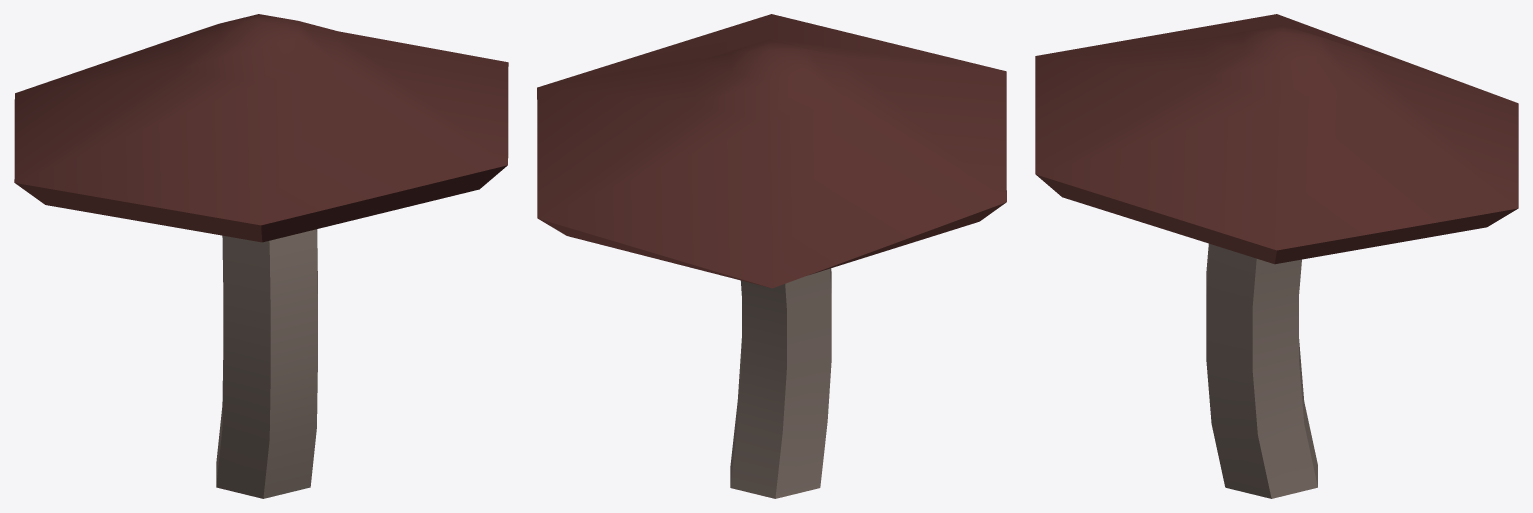
The model's file is MushroomRed1.fbx.
3 views of the same model, side by side, from view 1: azimuth 30°, elevation 25°; view 2: azimuth 150°, elevation 25°; view 3: azimuth 270°, elevation 25° (orthographic). The views are drawn at different scales.
Parts seen in each view (by area): view 1: pCylinder1; view 2: pCylinder1; view 3: pCylinder1.
Boxes of the visible parts, <box> form: pCylinder1: <box>14,14,508,498</box>; pCylinder1: <box>537,14,1006,498</box>; pCylinder1: <box>1035,14,1518,498</box>.
Bounding box in the file's own units: 6.23 × 5.45 × 5.38.
